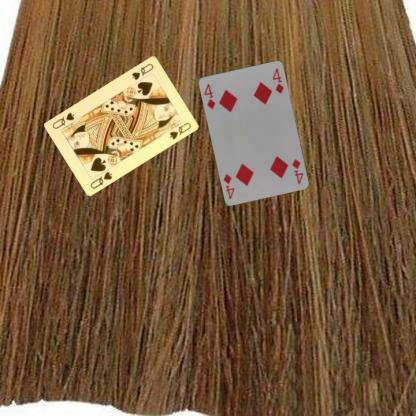4d: (290, 156, 304, 186), (202, 81, 216, 110)
Qs: (88, 169, 113, 190), (129, 61, 155, 81)
